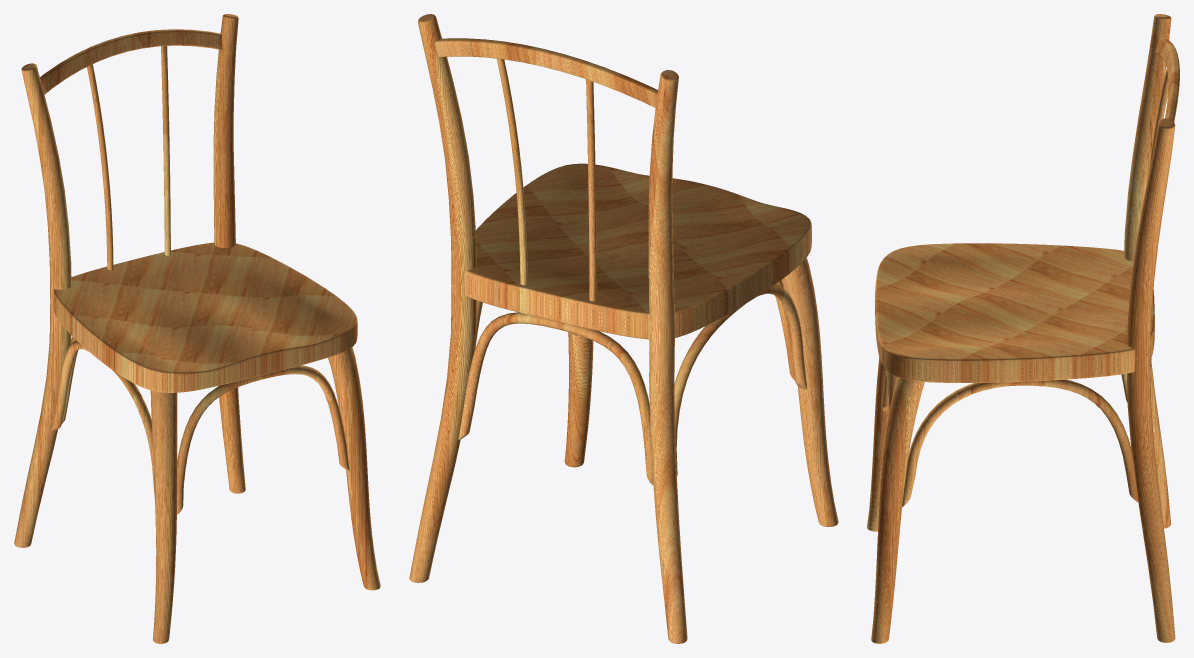
Rendered from chair.obj.
The picture shows the model from 3 angles, left to right: view 1: azimuth 30°, elevation 25°; view 2: azimuth 150°, elevation 25°; view 3: azimuth 270°, elevation 25°; orthographic projection. The views are drawn at different scales.
Parts seen in each view (by area): view 1: default; view 2: default; view 3: default.
Part boxes in pixels (x1,y1,x2,y2): default: (14,14,380,643); default: (409,14,838,643); default: (867,14,1179,643).
Size of the model in its own units: 28.13 by 55.19 by 30.37.
